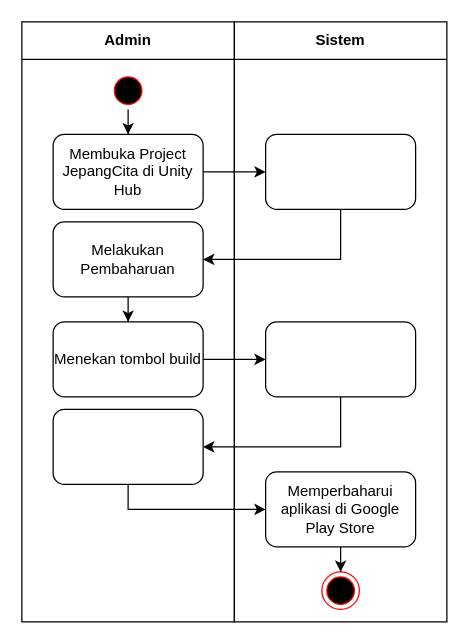
Some shapes in this 469 by 644 pixel diagram are drawn without their labels. Here are the shapes that lost their labels. From the top down, the centre of each, then its label:
the point at 340,171: Menampilkan Project JepangCita
the point at 340,359: Mem-build project ke file .aab
the point at 127,446: Mengunggah file .aab ke Google Play Console
